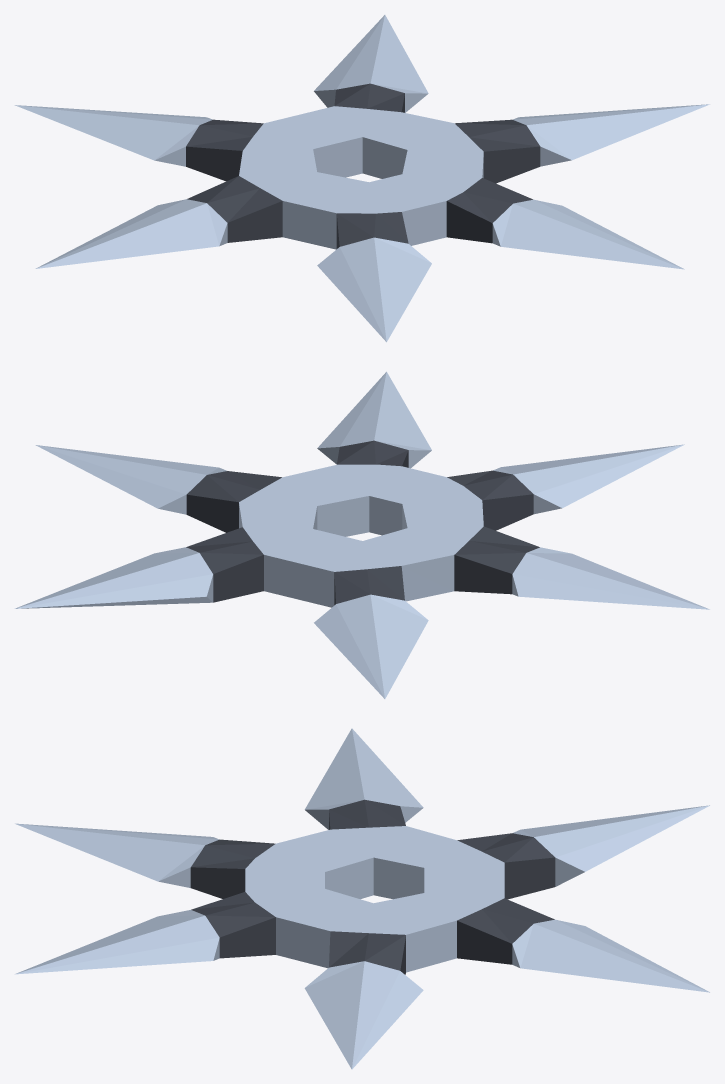
File: Shuriken Asia.fbx
3 views of the same model, one above another, from view 1: azimuth 30°, elevation 25°; view 2: azimuth 150°, elevation 25°; view 3: azimuth 270°, elevation 25° (orthographic). The views are drawn at different scales.
Parts seen in each view (by area): view 1: Shuriken; view 2: Shuriken; view 3: Shuriken.
Part boxes in pixels (box(x1,y1,x2,y2)): Shuriken: box(14, 15, 709, 342); Shuriken: box(14, 371, 709, 698); Shuriken: box(15, 728, 709, 1069).
Bounding box in the file's own units: 0.202 × 0.0104 × 0.1741.
